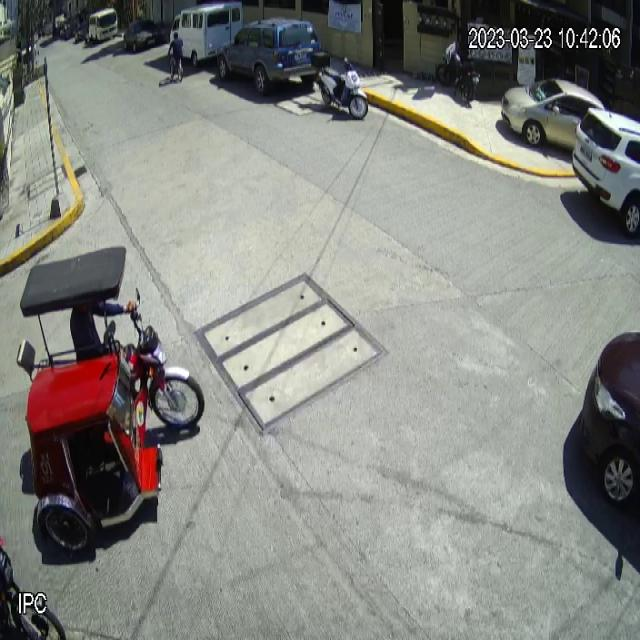Car: (216, 16, 323, 96), (501, 75, 603, 154)
Motorcycle: (312, 50, 368, 121)
Tricycle: (16, 241, 207, 566)
Van: (169, 0, 242, 69)
